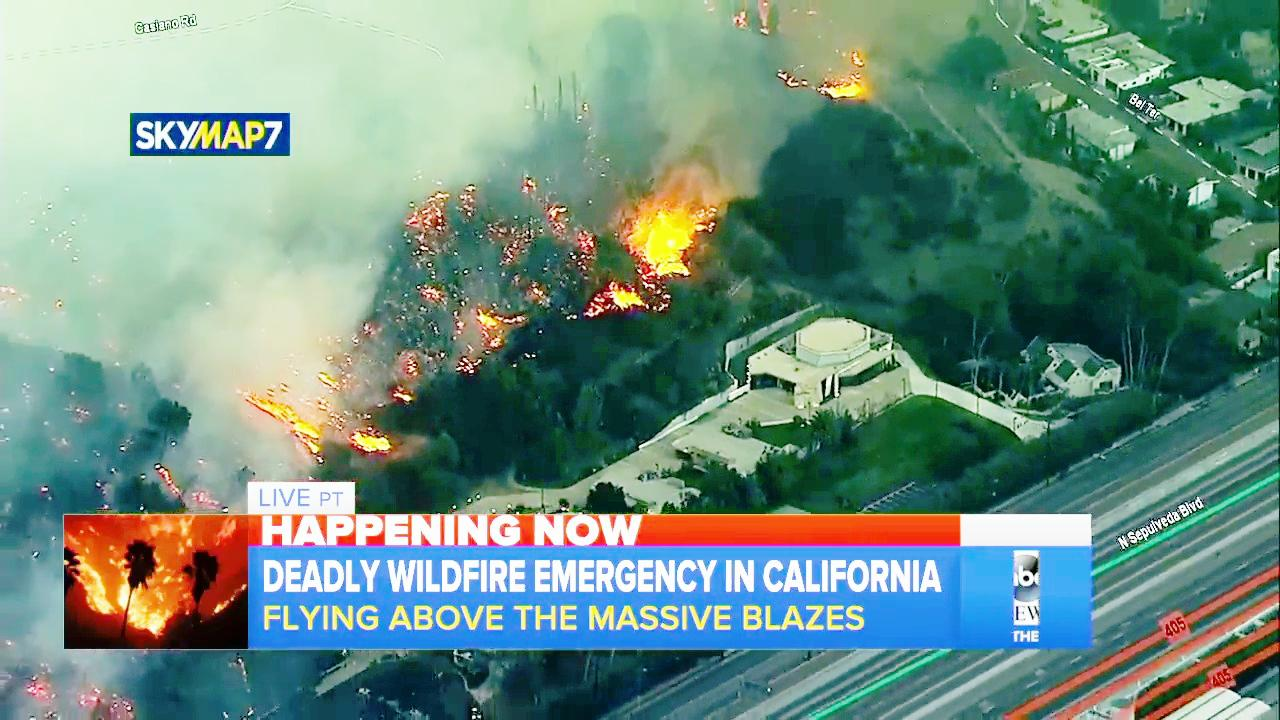fire: (582, 201, 720, 320)
smoke: (0, 156, 396, 440)
